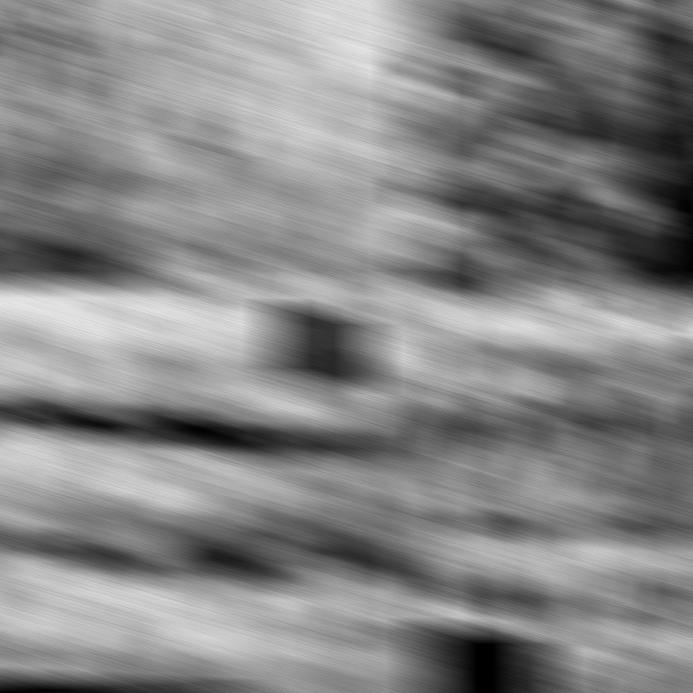Airbag: (0, 0, 426, 287), (403, 0, 693, 287)
